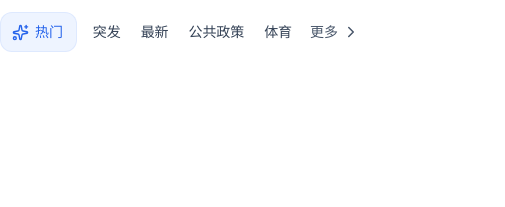
Test: more dropdown positioning › renders the filter-strip More dropdown with only the requested topic entries
The width and height of the screenshot is (505, 207).
Click the button with aria-label "更多分类": [335, 32] box [308,12,362,52]
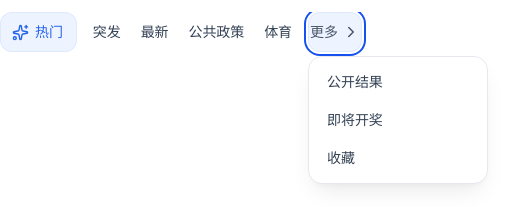
Check: the number of menu items is 3, box [327,73,383,90]; [327,111,383,128]; [327,149,355,166]
Check: the menu item "公开结果" is shown, box [327,73,383,90]
Check: the menu item "即将开奖" is shown, box [327,111,383,128]
